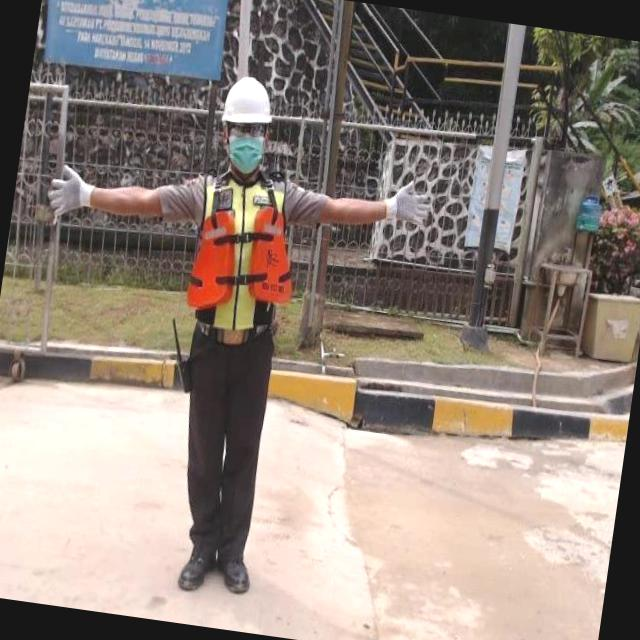boots: (174, 538, 219, 600), (217, 545, 260, 606)
helmet: (214, 67, 288, 142)
vest: (180, 162, 312, 340)
